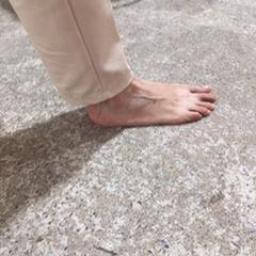Lateral View -Right Foot-: (59, 63, 222, 140)
